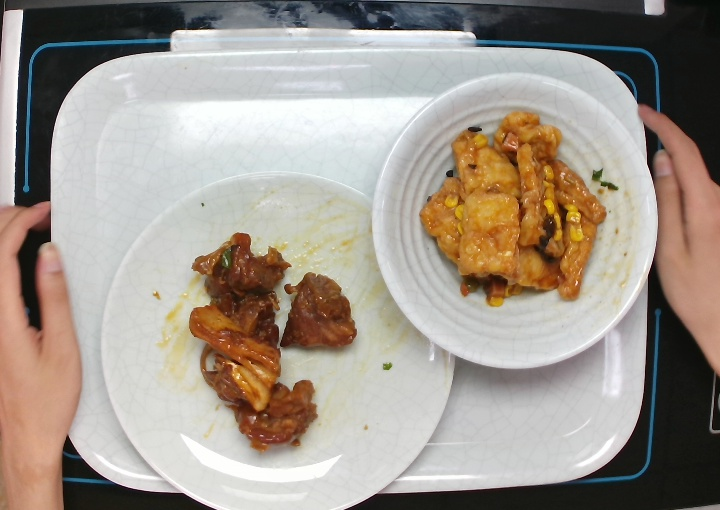JYsf-Da_Yuan_Pan: (96, 169, 457, 510)
JYsf-Xiao_Tang_Wan: (368, 66, 663, 377)
